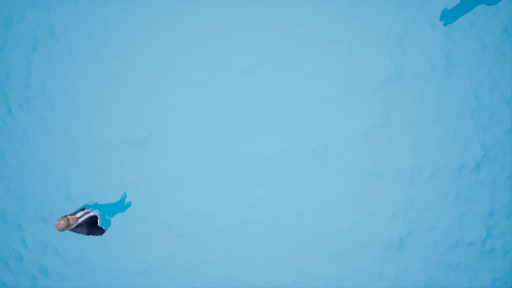person: (57, 193, 135, 239)
